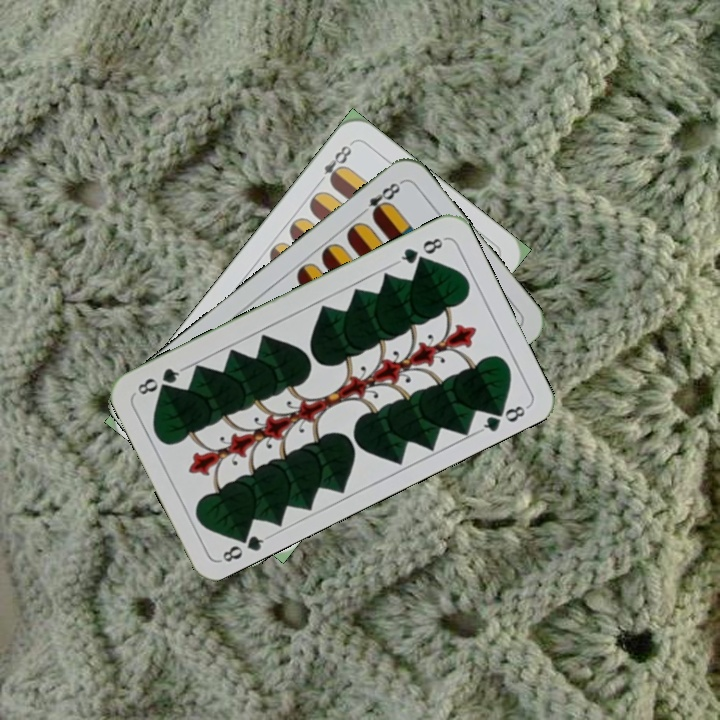E8: (355, 177, 405, 221), (313, 139, 355, 188)
G8: (216, 526, 272, 565), (393, 233, 448, 267)
